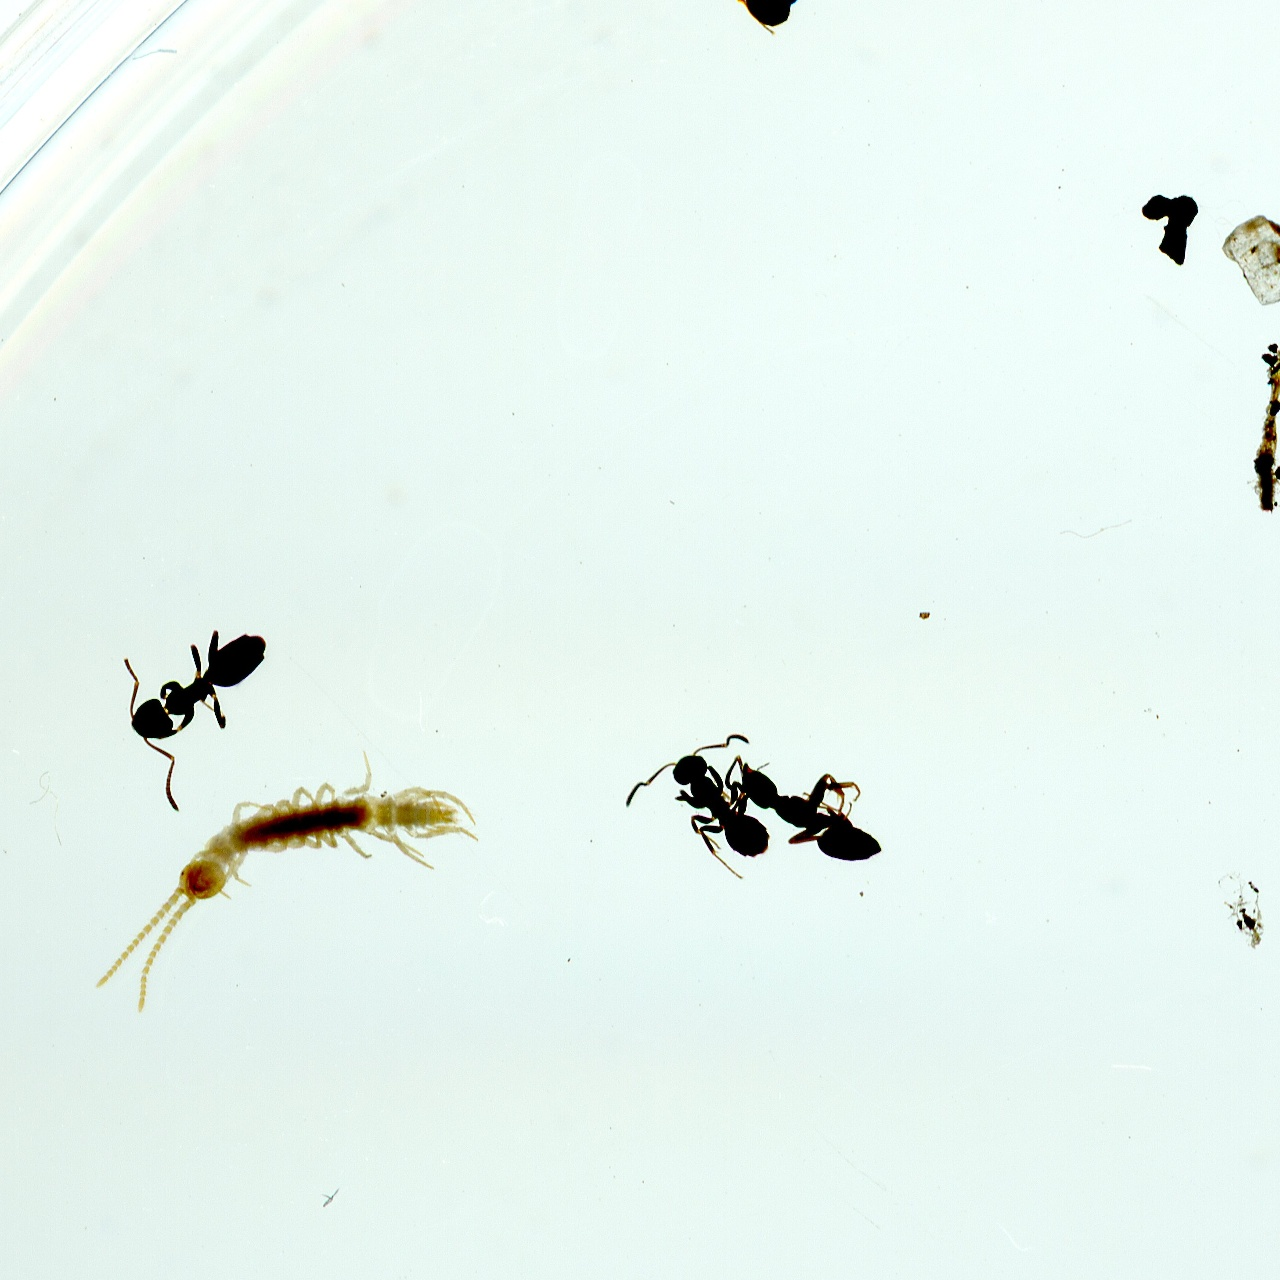arthropod: (98, 754, 490, 1029), (105, 614, 267, 815), (625, 704, 769, 885), (733, 738, 886, 871), (666, 0, 830, 36)
